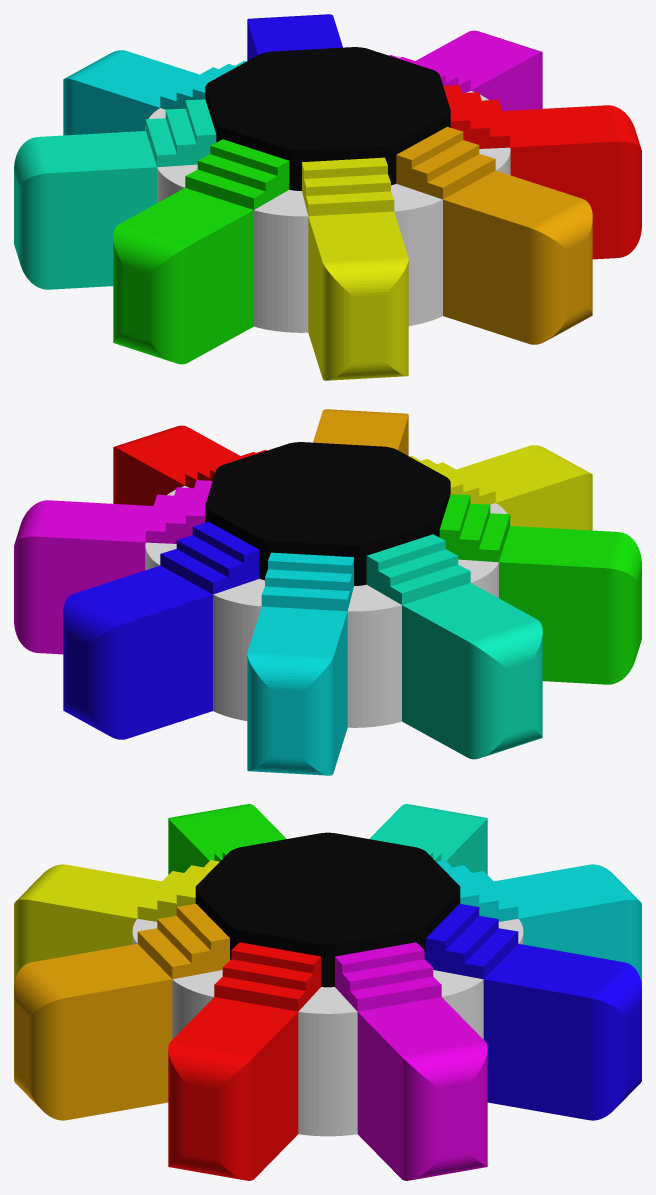
The model's file is supernova.fbx.
3 views of the same model, one above another, from view 1: azimuth 30°, elevation 25°; view 2: azimuth 150°, elevation 25°; view 3: azimuth 270°, elevation 25° (orthographic). The views are drawn at different scales.
Parts seen in each view (by area): view 1: Cylinder; view 2: Cylinder; view 3: Cylinder.
Boxes of the visible parts, <box> form: Cylinder: <box>14,14,641,380</box>; Cylinder: <box>14,409,641,775</box>; Cylinder: <box>14,804,641,1180</box>.
Bounding box in the file's own units: 930 × 269 × 930.
